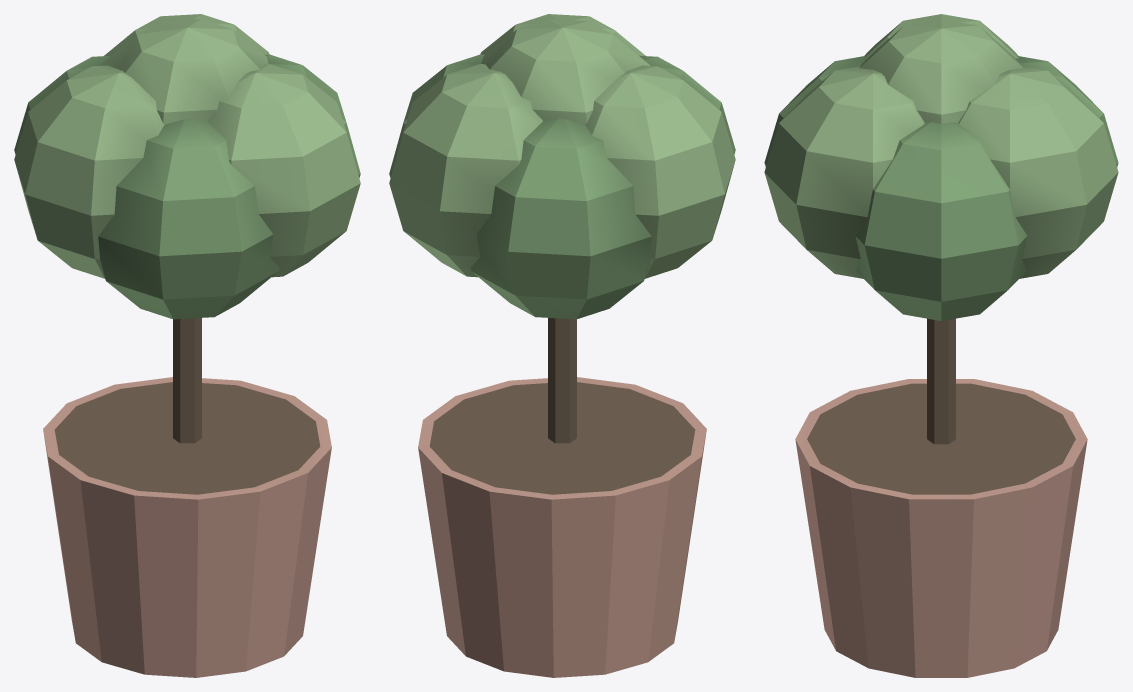
Rendered from furn_plant_pot__terracotta.glb.
The picture shows the model from 3 angles, left to right: view 1: azimuth 30°, elevation 25°; view 2: azimuth 150°, elevation 25°; view 3: azimuth 270°, elevation 25°; orthographic projection.
Size of the model in its own units: 0.642 by 1.13 by 0.6058.
